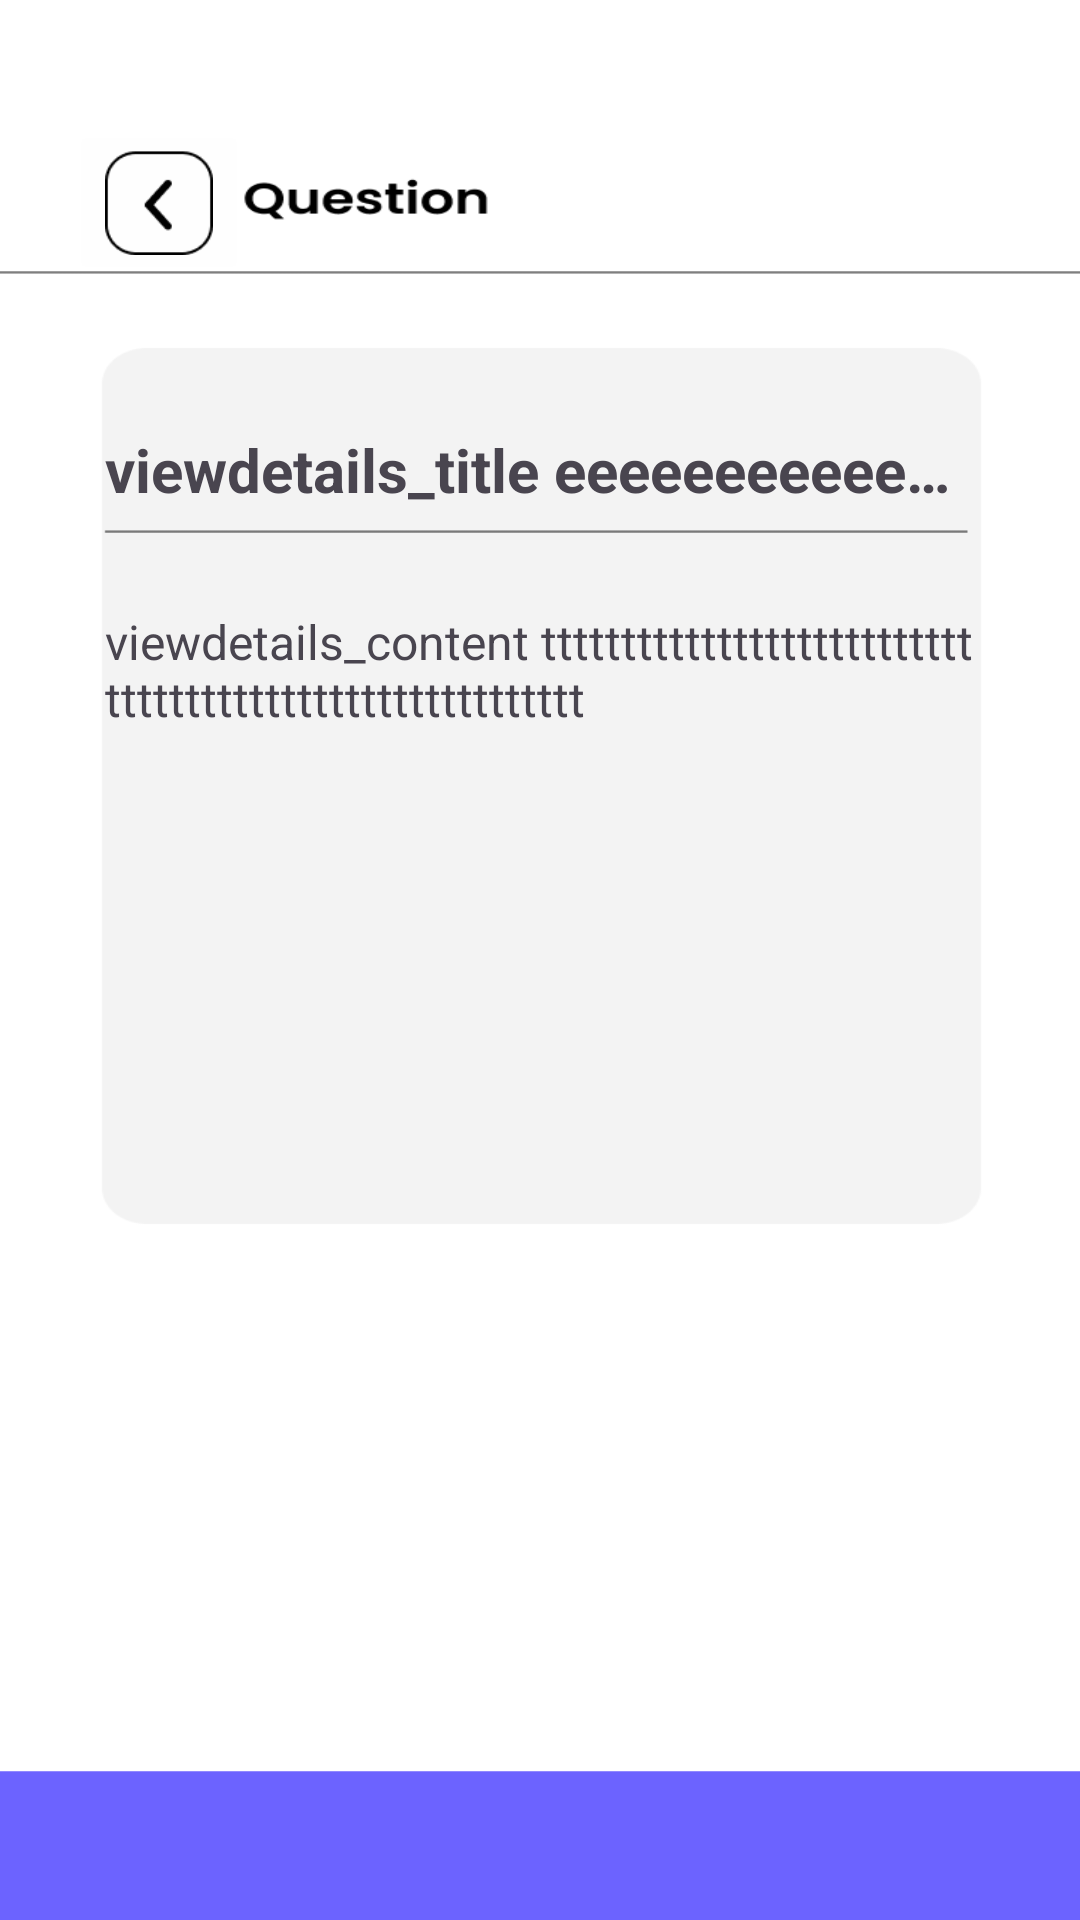

Where to tap for icons on this 1080x1920 app screen, as (x,y):
qanda viewdetails finish: (159,203)
